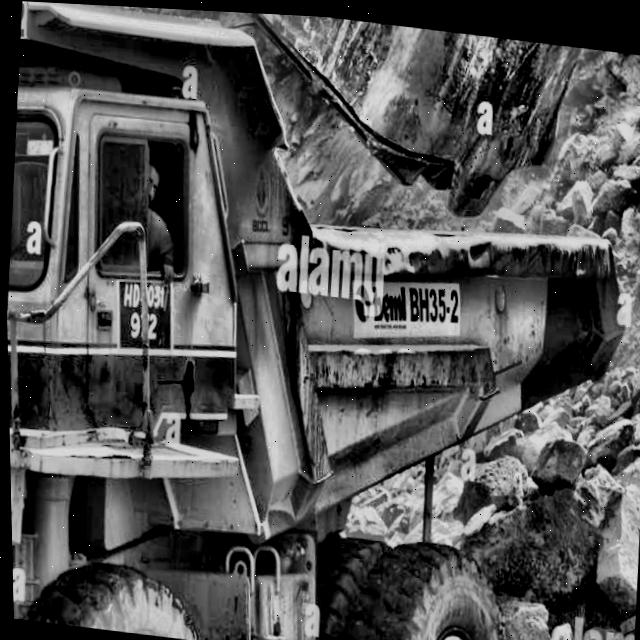dump_truck: (0, 15, 632, 640)
excavator: (12, 0, 640, 200)
